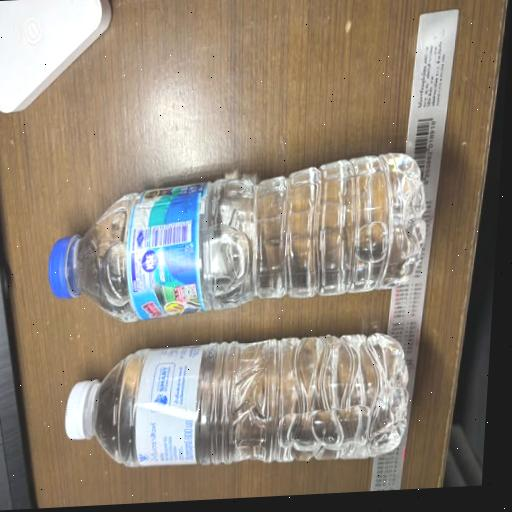bottle: (29, 104, 445, 339), (43, 312, 429, 497)
